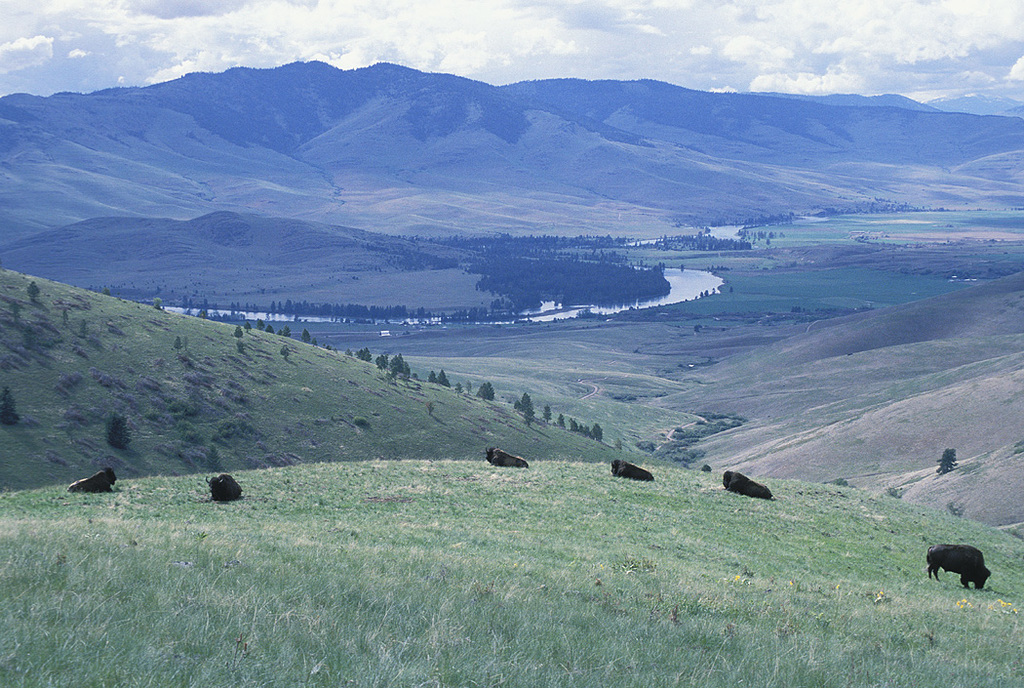Animal: (922, 540, 996, 589), (61, 464, 117, 498), (722, 471, 773, 497), (205, 470, 240, 501), (485, 441, 529, 464), (610, 460, 656, 482)
